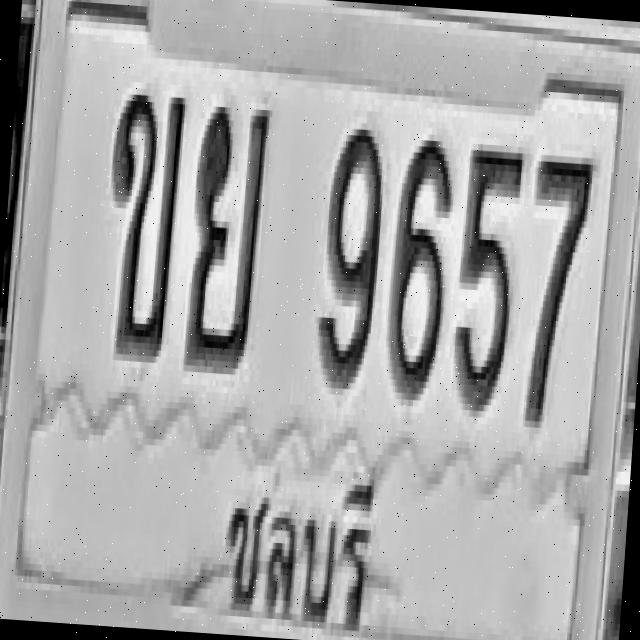11KhorKhai: (98, 80, 188, 358)
43YorYak: (182, 96, 272, 373)
5: (450, 140, 525, 409)
6: (383, 129, 456, 398)
7: (519, 145, 595, 427)
9: (314, 118, 388, 387)
Chonburi: (214, 450, 380, 637)
